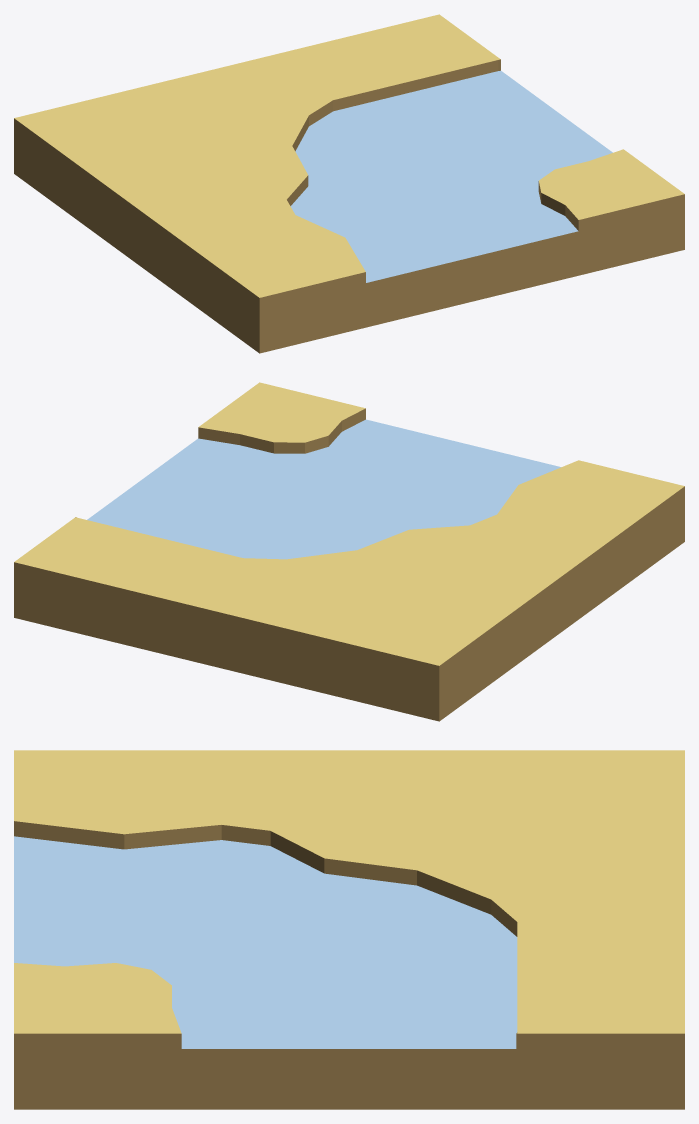
The model's file is Terrain_Tile_Sand_River_Bend_02.fbx.
3 renders of one model, top to bottom at view 1: azimuth 30°, elevation 25°; view 2: azimuth 150°, elevation 25°; view 3: azimuth 270°, elevation 25°, orthographic. The views are drawn at different scales.
Parts seen in each view (by area): view 1: Terrain_Tile_Sand_River_Bend_02; view 2: Terrain_Tile_Sand_River_Bend_02; view 3: Terrain_Tile_Sand_River_Bend_02.
Boxes of the visible parts, x1,y1,x2,y2 form: Terrain_Tile_Sand_River_Bend_02: [14, 14, 684, 353]; Terrain_Tile_Sand_River_Bend_02: [14, 382, 684, 721]; Terrain_Tile_Sand_River_Bend_02: [14, 750, 684, 1109].
Bounding box in the file's own units: 126 × 15.75 × 126.
